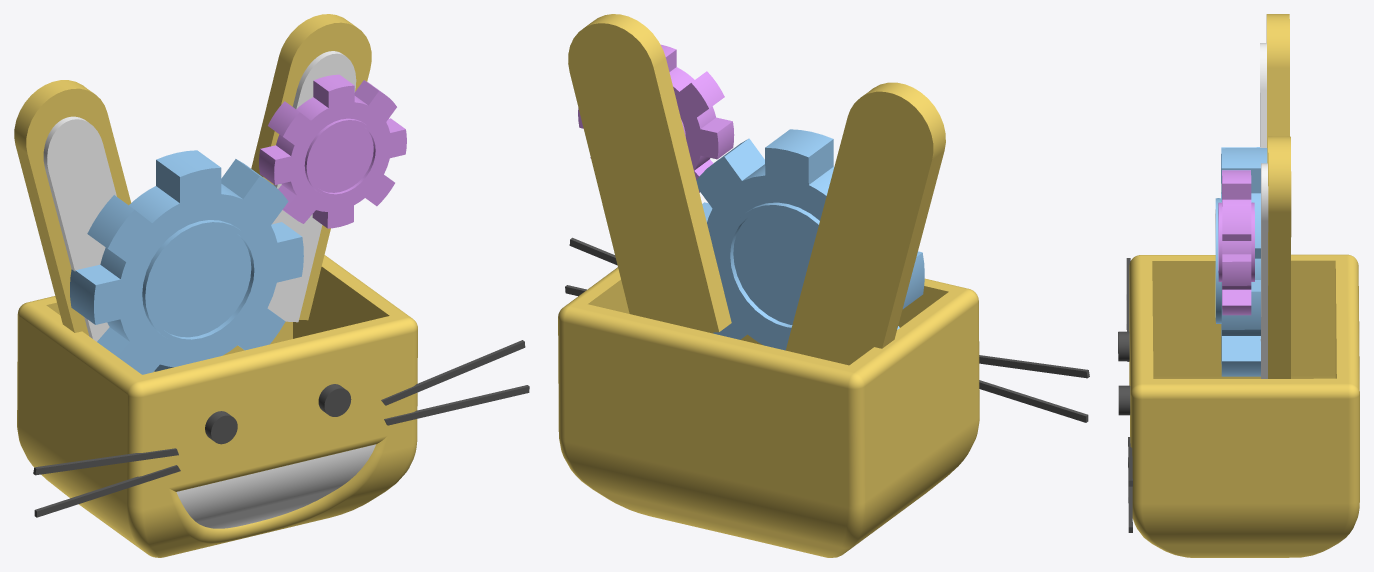
Rendered from DitoRabbit2.gltf.
The picture shows the model from 3 angles, left to right: view 1: azimuth 30°, elevation 25°; view 2: azimuth 150°, elevation 25°; view 3: azimuth 270°, elevation 25°; orthographic projection. The views are drawn at different scales.
Visible parts, largest first — view 1: Body3, Body7, Body10, Body12, Body5, Body11, Body14, Body13, Body17, Body16, Body18, Body15 (+2 smaller); view 2: Body3, Body14, Body12, Body7, Body10, Body16, Body15; view 3: Body3, Body14, Body7, Body10, Body12, Body13, Body11, Body24, Body23.
Part boxes in pixels (left/top/right/bottom): Body3: left=17, top=255, right=417, bottom=557; Body7: left=70, top=150, right=303, bottom=374; Body10: left=259, top=74, right=406, bottom=228; Body12: left=14, top=80, right=131, bottom=335; Body5: left=176, top=444, right=375, bottom=528; Body11: left=43, top=116, right=116, bottom=341; Body14: left=251, top=14, right=371, bottom=320; Body13: left=267, top=51, right=356, bottom=322; Body17: left=381, top=340, right=525, bottom=405; Body16: left=34, top=465, right=180, bottom=517; Body18: left=384, top=385, right=529, bottom=425; Body15: left=33, top=448, right=178, bottom=475; Body3: left=558, top=267, right=979, bottom=557; Body14: left=568, top=14, right=731, bottom=332; Body12: left=785, top=82, right=945, bottom=365; Body7: left=696, top=129, right=924, bottom=350; Body10: left=578, top=44, right=734, bottom=192; Body16: left=979, top=380, right=1088, bottom=422; Body15: left=979, top=355, right=1089, bottom=378; Body3: left=1129, top=254, right=1359, bottom=557; Body14: left=1268, top=136, right=1291, bottom=378; Body7: left=1215, top=147, right=1267, bottom=376; Body10: left=1218, top=170, right=1254, bottom=315; Body12: left=1266, top=14, right=1289, bottom=163; Body13: left=1260, top=163, right=1268, bottom=378; Body11: left=1260, top=43, right=1266, bottom=147; Body24: left=1118, top=385, right=1130, bottom=415; Body23: left=1118, top=331, right=1129, bottom=361.
Size of the model in its own units: 0.2397 by 0.2144 by 0.1054.
